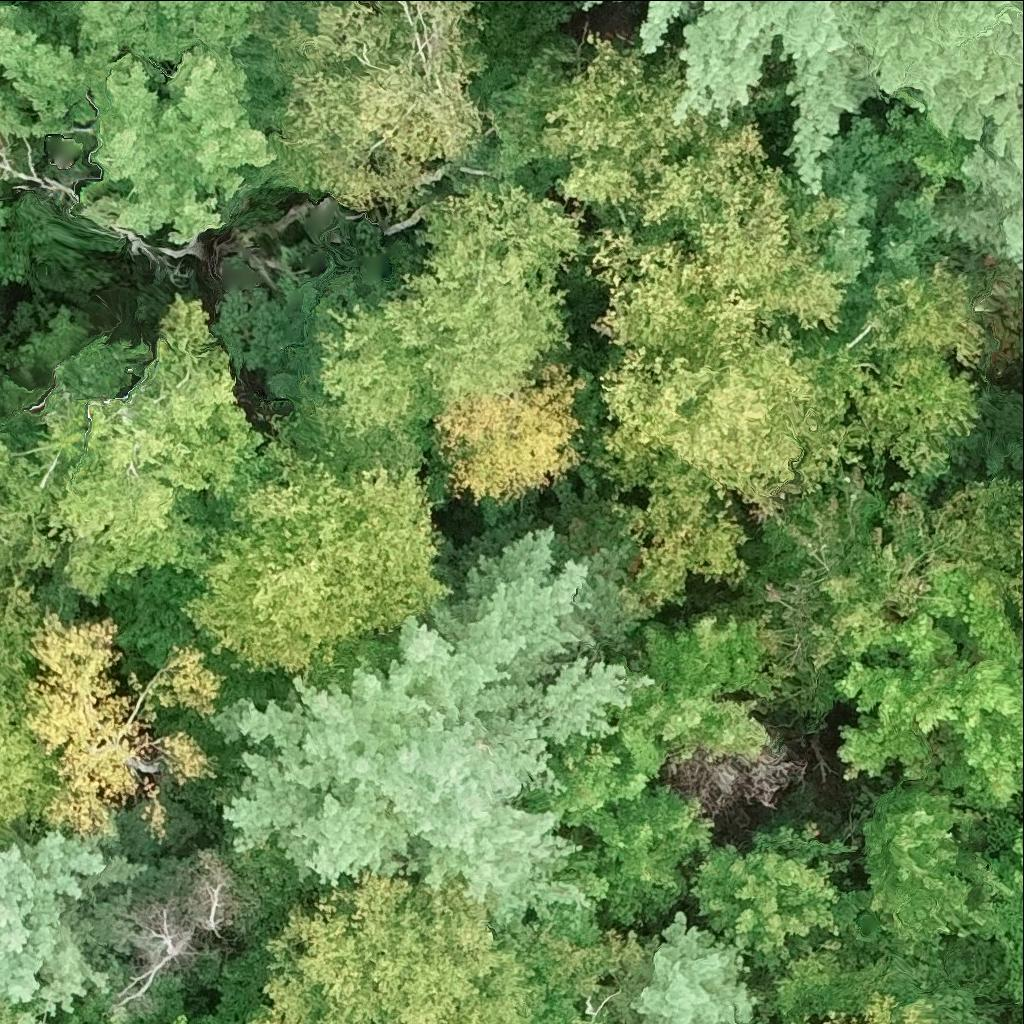crown: (548, 44, 982, 601), (213, 526, 655, 946), (111, 424, 456, 722), (276, 178, 597, 458), (763, 474, 1023, 806), (54, 292, 275, 604), (255, 869, 644, 1023), (268, 0, 489, 216), (20, 606, 223, 841), (69, 44, 278, 243), (0, 335, 155, 593), (517, 732, 708, 921), (675, 0, 865, 187), (840, 0, 1023, 170), (604, 616, 793, 773), (0, 829, 148, 1023), (433, 362, 592, 526), (860, 773, 1003, 952), (777, 909, 994, 1023), (693, 825, 851, 958), (596, 912, 761, 1023), (0, 0, 120, 134), (0, 584, 60, 835), (57, 0, 274, 65), (921, 137, 1023, 267), (929, 482, 1023, 622), (116, 896, 216, 1016), (0, 305, 91, 425), (975, 845, 1023, 1023), (874, 114, 992, 179), (174, 849, 252, 938), (0, 82, 39, 175), (637, 0, 681, 52), (839, 1004, 948, 1023), (58, 993, 118, 1023), (0, 992, 44, 1023), (0, 0, 58, 5), (584, 0, 600, 7), (175, 1015, 183, 1023), (576, 1022, 581, 1023)
